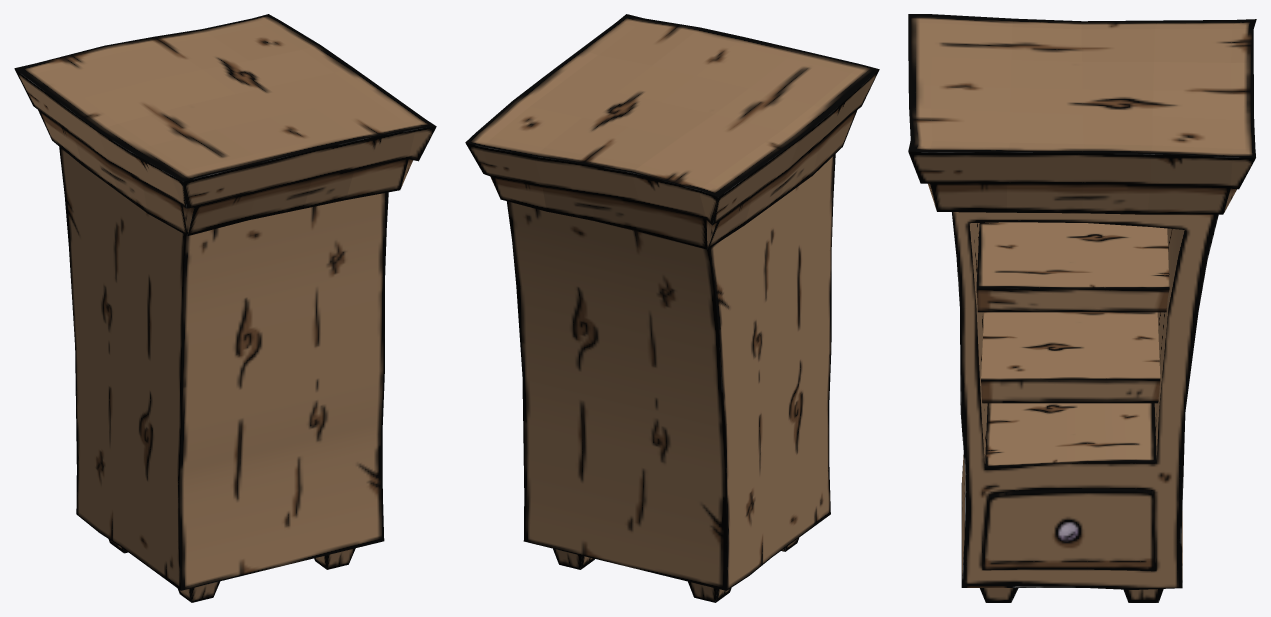
Rendered from szafka_stojąca1.fbx.
3 views of the same model, side by side, from view 1: azimuth 30°, elevation 25°; view 2: azimuth 150°, elevation 25°; view 3: azimuth 270°, elevation 25° (orthographic). The views are drawn at different scales.
Visible parts, largest first — view 1: szafka stojąca1; view 2: szafka stojąca1; view 3: szafka stojąca1.
Boxes of the visible parts, <box> form: szafka stojąca1: <box>14,14,436,602</box>; szafka stojąca1: <box>465,14,879,602</box>; szafka stojąca1: <box>908,14,1256,602</box>.
Size of the model in its own units: 123 by 209 by 136.
1 material, 1 textured.
